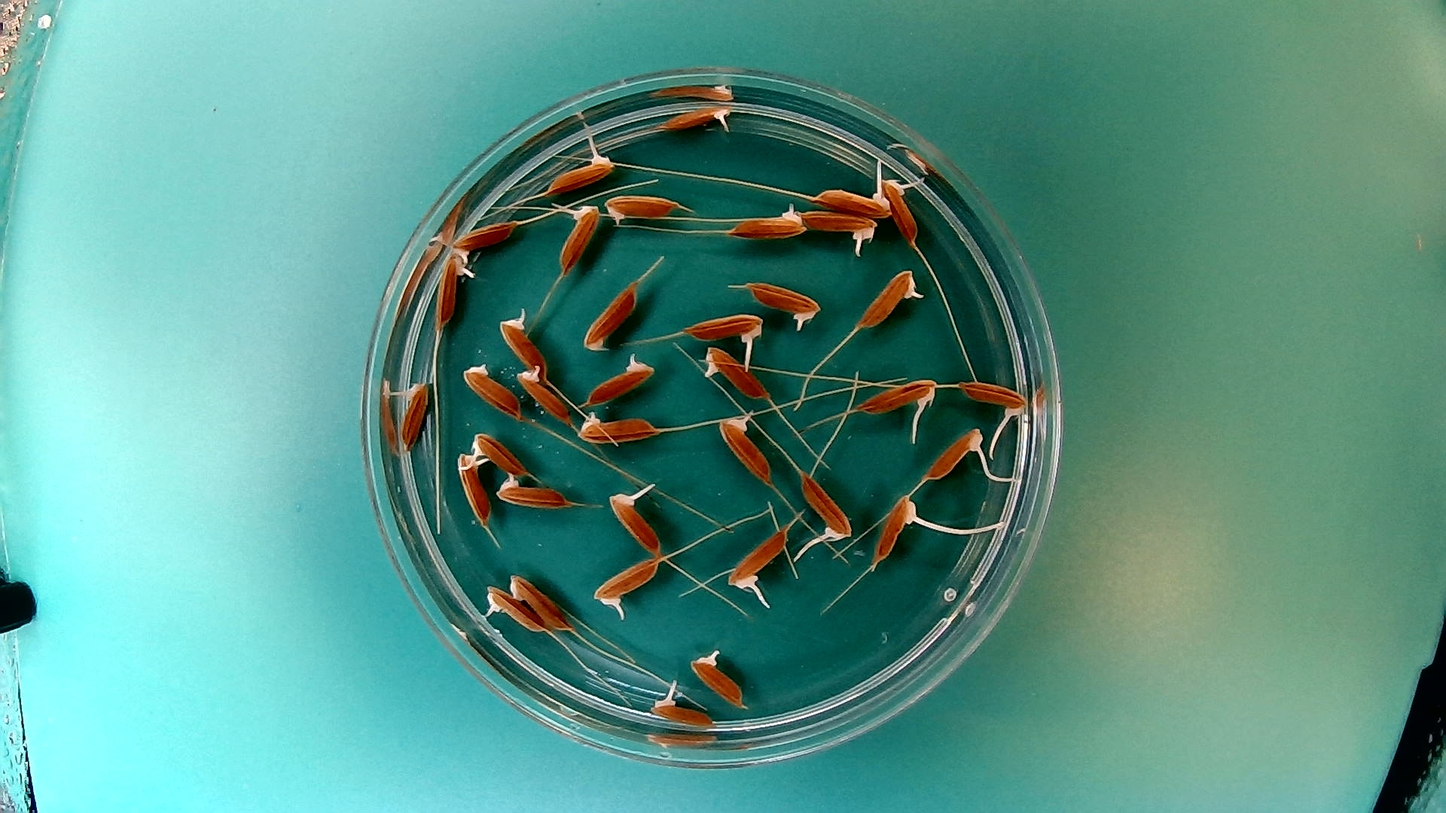no: (581, 278, 640, 355), (506, 571, 572, 632), (459, 361, 524, 422)
yes: (727, 522, 792, 620), (798, 470, 855, 571), (856, 265, 926, 331), (715, 410, 775, 487), (606, 489, 664, 559), (746, 277, 823, 329), (854, 375, 941, 421), (584, 352, 658, 406), (702, 344, 772, 400), (514, 365, 575, 428), (923, 425, 989, 482), (433, 248, 476, 332), (681, 309, 767, 351), (957, 376, 1030, 425), (544, 148, 617, 196), (871, 492, 919, 565), (555, 201, 601, 276), (482, 583, 548, 635), (497, 309, 548, 376), (690, 647, 746, 708), (573, 410, 664, 446), (595, 556, 663, 604), (800, 208, 879, 249), (725, 202, 808, 241), (453, 449, 493, 528), (493, 471, 571, 511), (447, 218, 520, 259), (880, 175, 921, 247), (394, 374, 430, 451), (602, 191, 680, 226), (471, 429, 529, 476), (648, 692, 717, 730), (811, 184, 892, 216), (666, 103, 736, 134)
